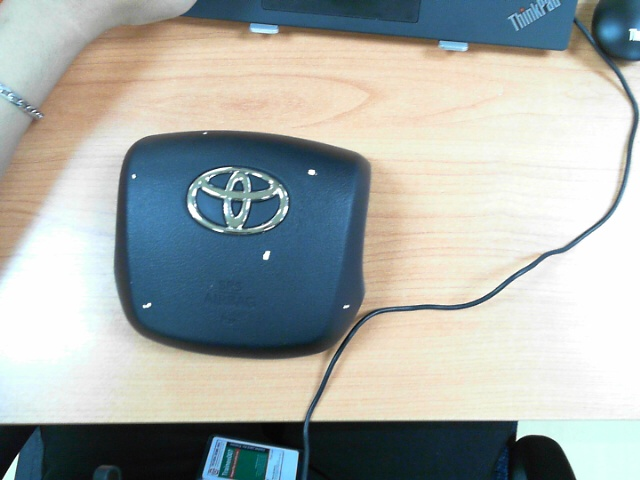Airbag: (141, 302, 153, 309), (263, 251, 270, 260), (307, 169, 317, 175), (343, 304, 350, 309), (131, 174, 137, 179), (202, 131, 208, 135)
